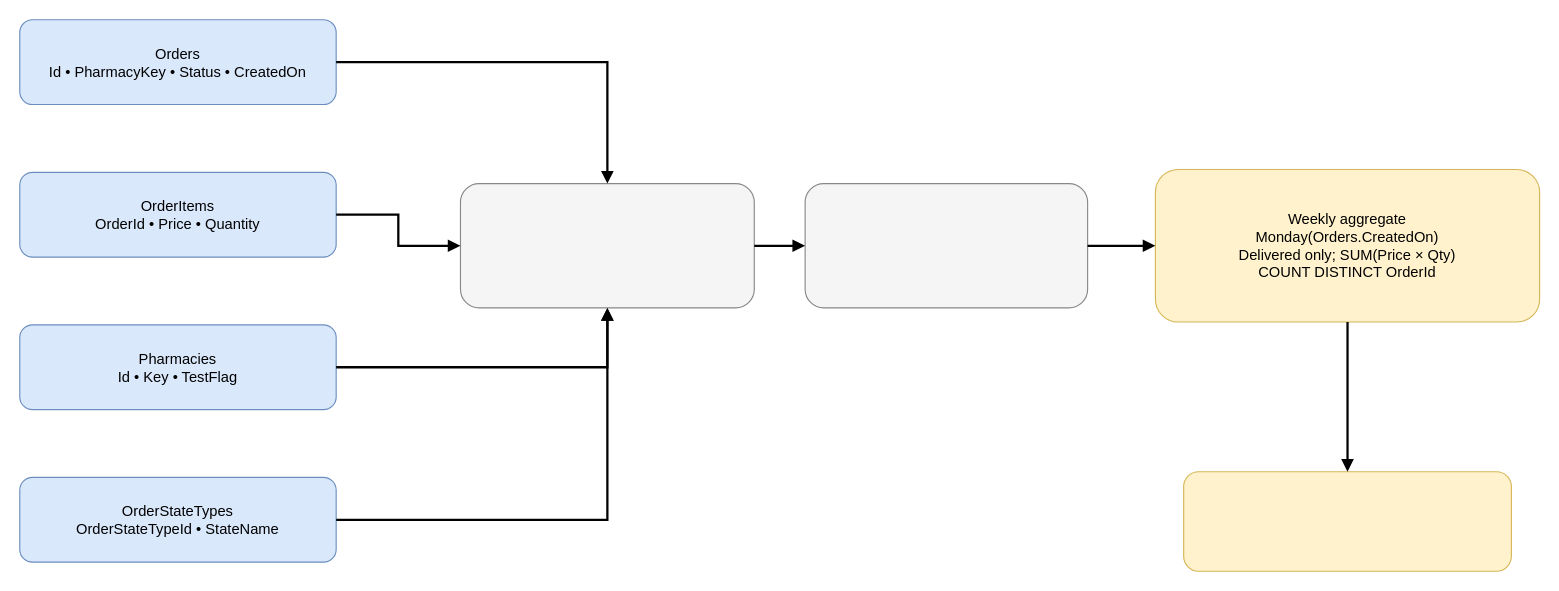
Some shapes in this 1559 by 591 pixel diagram are drawn without their labels. Each missing label, with the centre of its shape:
FactWeeklyPharmacySales pharmacy + week: point (1347, 521)
stg.* snapshot tables Preserve source identifiers: point (606, 245)
Validation unique keys • references • amounts: point (946, 245)
